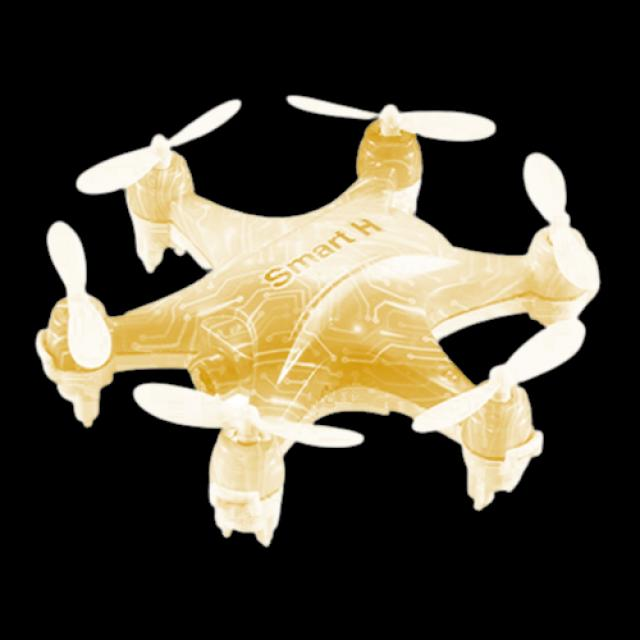drones: (32, 81, 610, 548)
